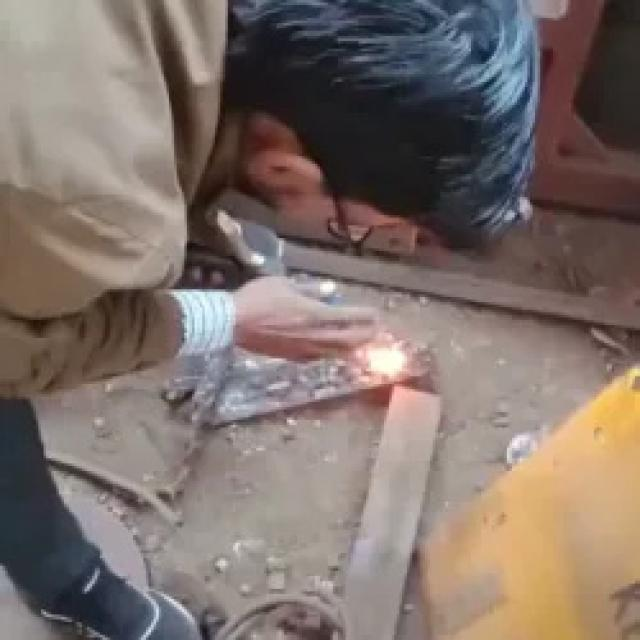fire: (365, 345, 407, 380)
